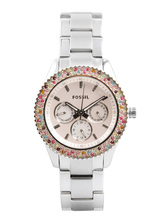watch: (31, 7, 143, 212)
